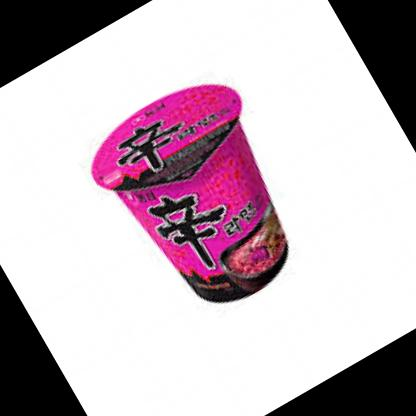Ramen: (69, 56, 332, 340)
